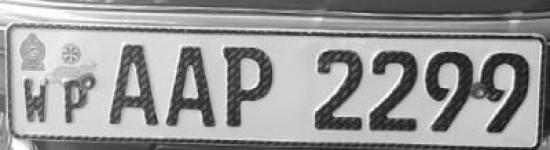2: (304, 40, 366, 138), (367, 43, 422, 140)
9: (422, 42, 477, 140), (479, 44, 534, 138)
A: (105, 38, 163, 136), (162, 41, 218, 136)
P: (221, 41, 276, 133), (57, 68, 93, 129)
W: (17, 70, 56, 128)
